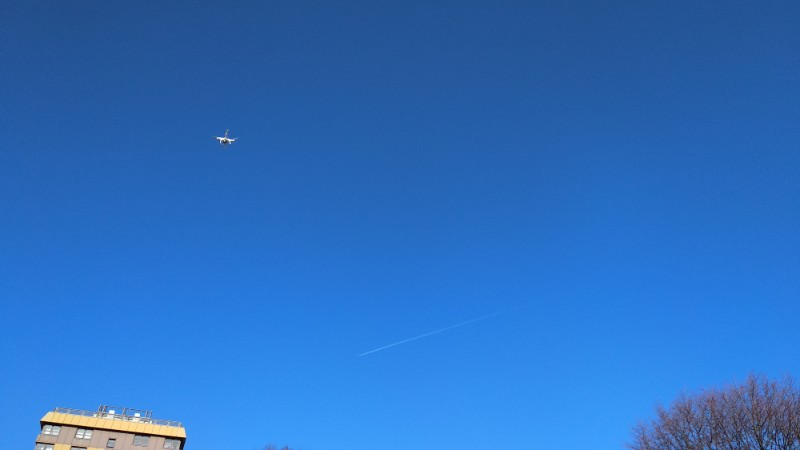drone: (214, 128, 239, 147)
